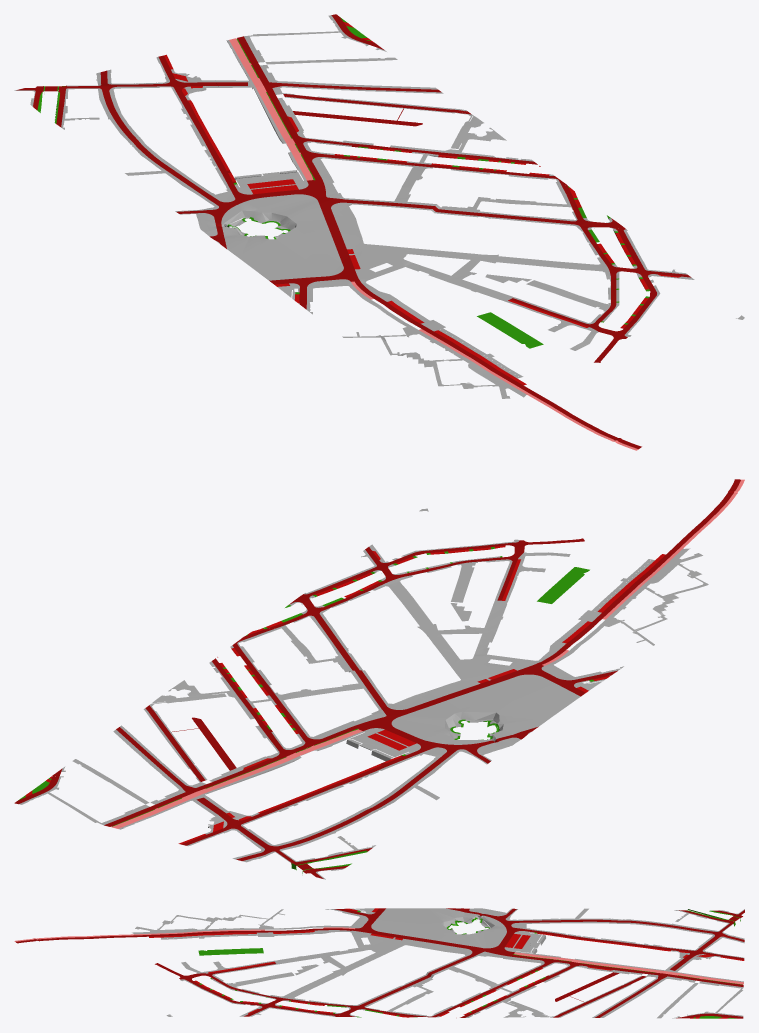
The model's file is tile-67320-51836-16 gebieden.fbx.
The picture shows the model from 3 angles, top to bottom: view 1: azimuth 30°, elevation 25°; view 2: azimuth 150°, elevation 25°; view 3: azimuth 270°, elevation 25°; orthographic projection. The views are drawn at different scales.
Visible parts, largest first — view 1: Mesh (×10); view 2: Mesh (×10); view 3: Mesh (×10).
Boxes of the visible parts, x1,y1,x2,y2 form: Mesh (×10): (14, 14, 744, 450); Mesh (×10): (14, 479, 744, 879); Mesh (×10): (14, 908, 744, 1018).
Bounding box in the file's own units: 189 × 4.2 × 531.
